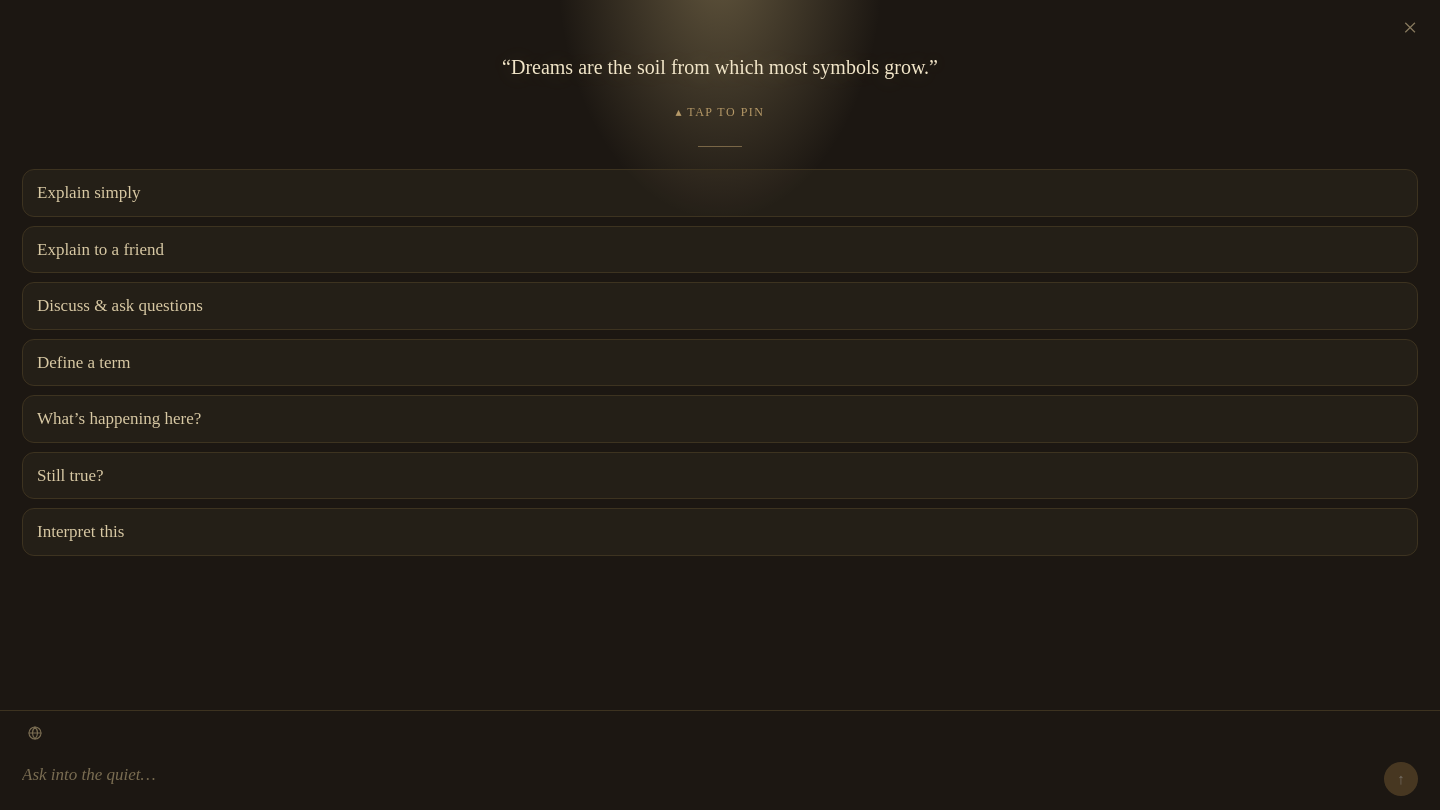
Test case: a failure the reader can see › is never saved into the thread
Click the button "Explain simply". click: (89, 192)
box: [22, 169, 1418, 216]
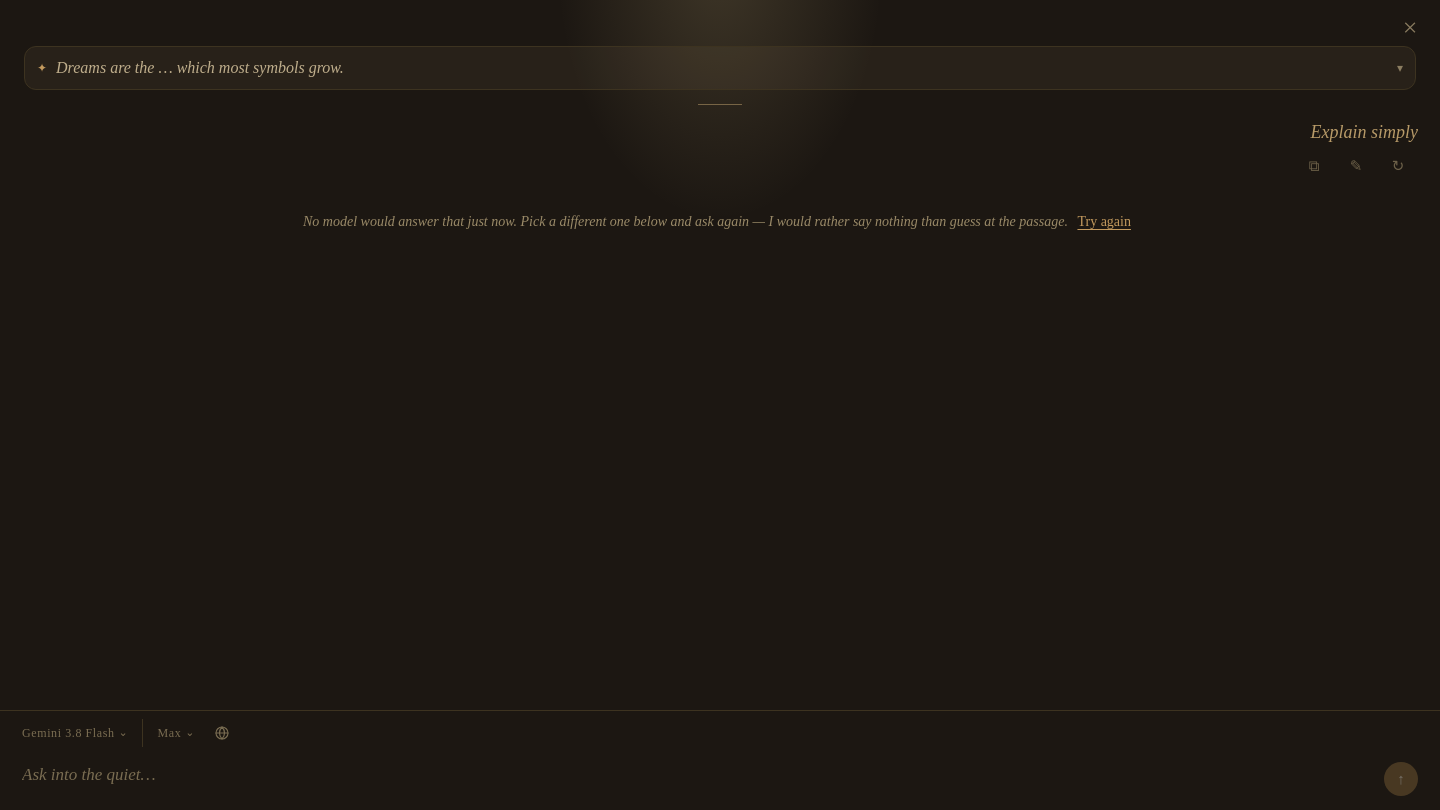
Now the text "No model would answer" is shown, box [303, 214, 1068, 229]
